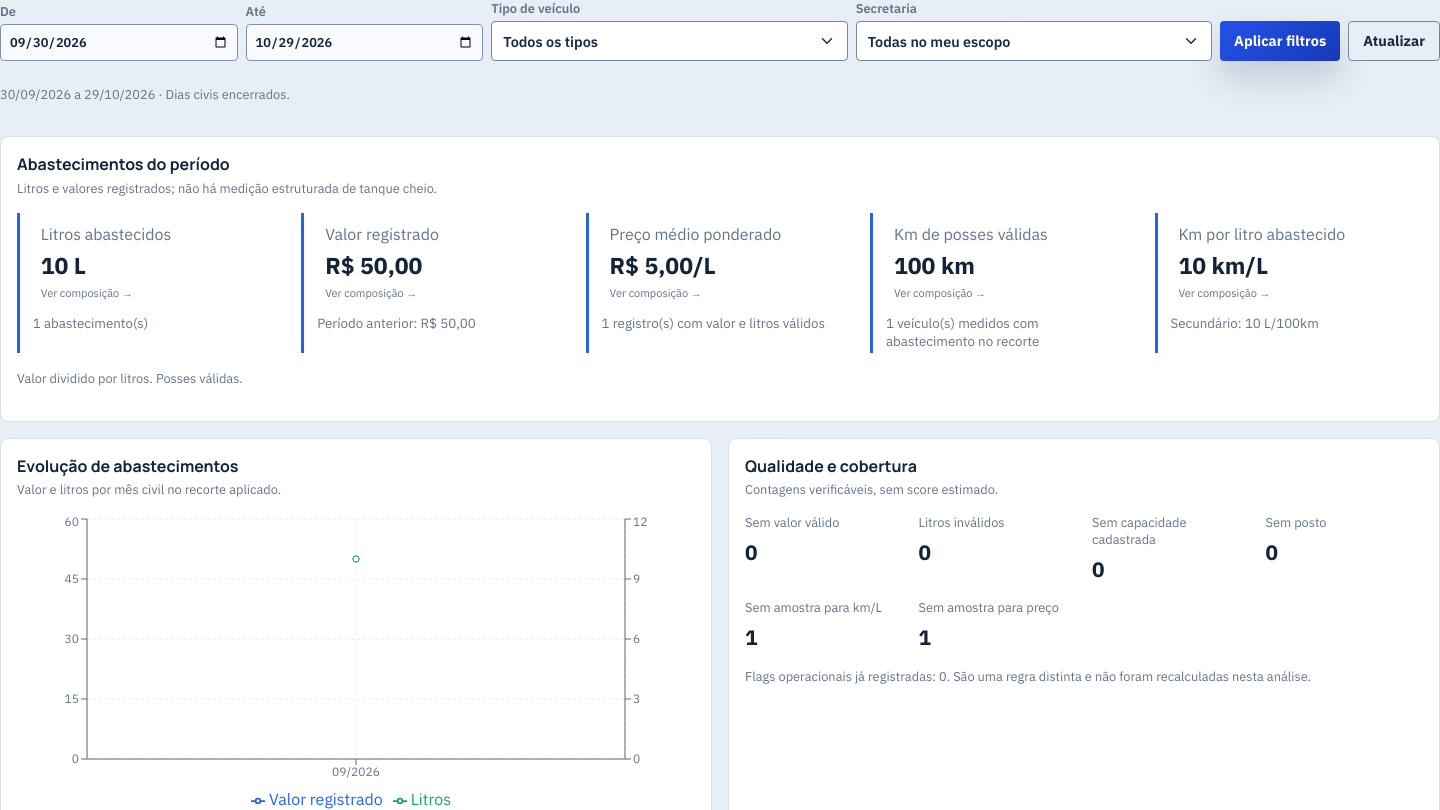
Test: abre a composição do KPI sem ampliar o acesso a registros individuais
This screenshot has width=1440, height=810.
Click the button "Km de posses válidas 100 km Ver composição →" at (1006, 262), box [886,216,1126,308]
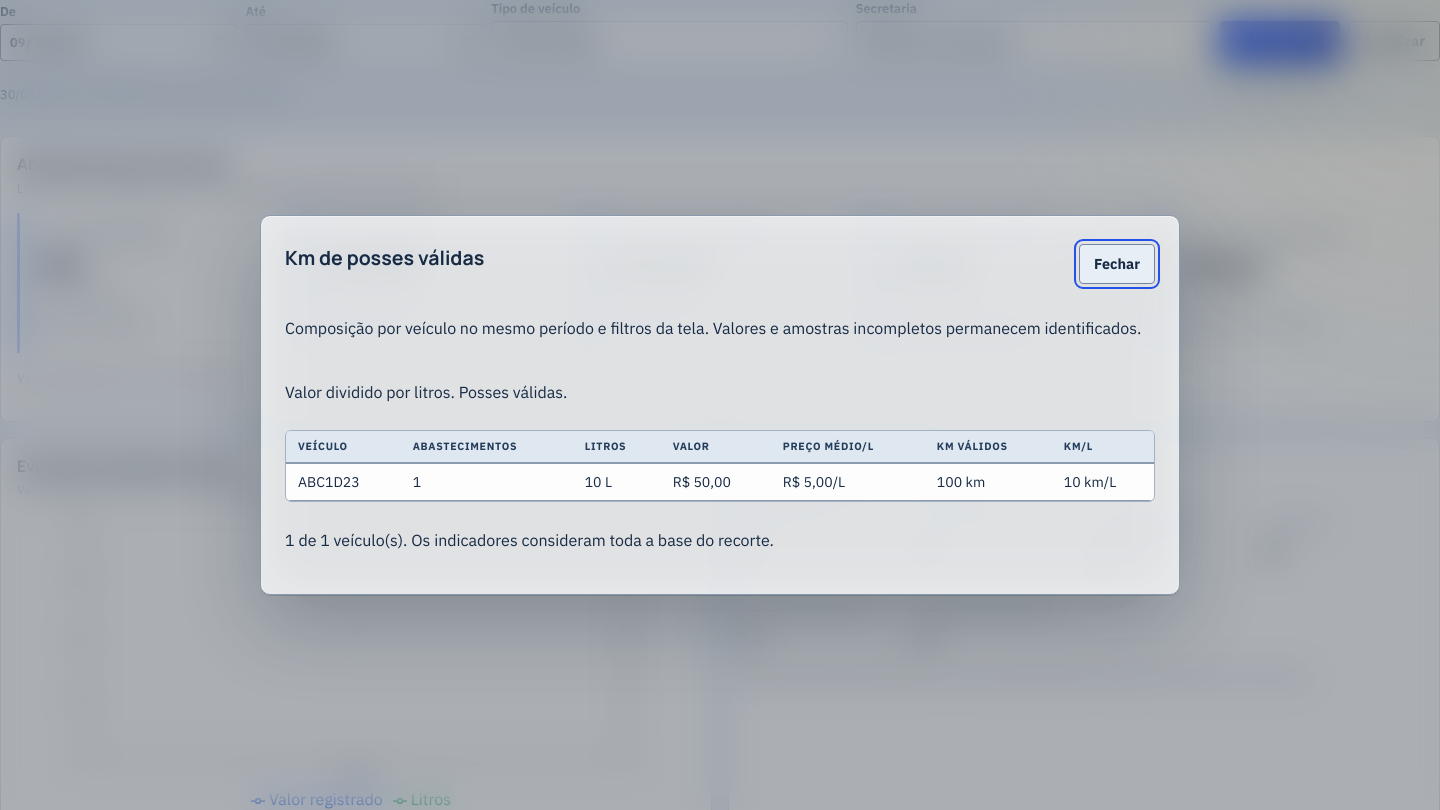
Now the text "ABC1D23" is shown, box [286,463,401,501]
Now the column heading "Km válidos" is shown, box [925,431,1052,463]
